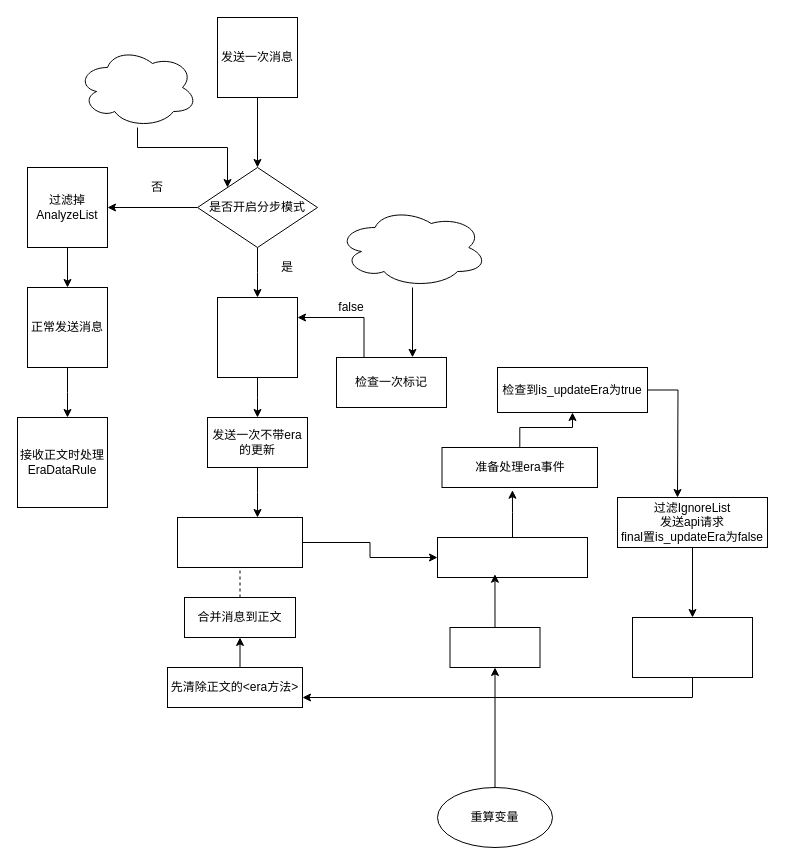
This 785x865 diagram has some shape labels left out. The shapes that lost their labels are listed below. From the top down, each one's box as (x1, y1, x2, y2) in pixels, then its label:
(76, 46, 198, 128): is_async标记 是否为分步
(336, 206, 488, 288): is_updateEra 标记现在是否为正文
(216, 296, 298, 378): 过滤掉 UpdateList
(176, 516, 302, 568): 接收到正文 且is_updateEra为false
(436, 536, 588, 578): 把is_updateEra置为true
(449, 626, 540, 668): 如果不是分步 临时开启
(632, 616, 752, 678): 接收内容 处理EraDataRule
